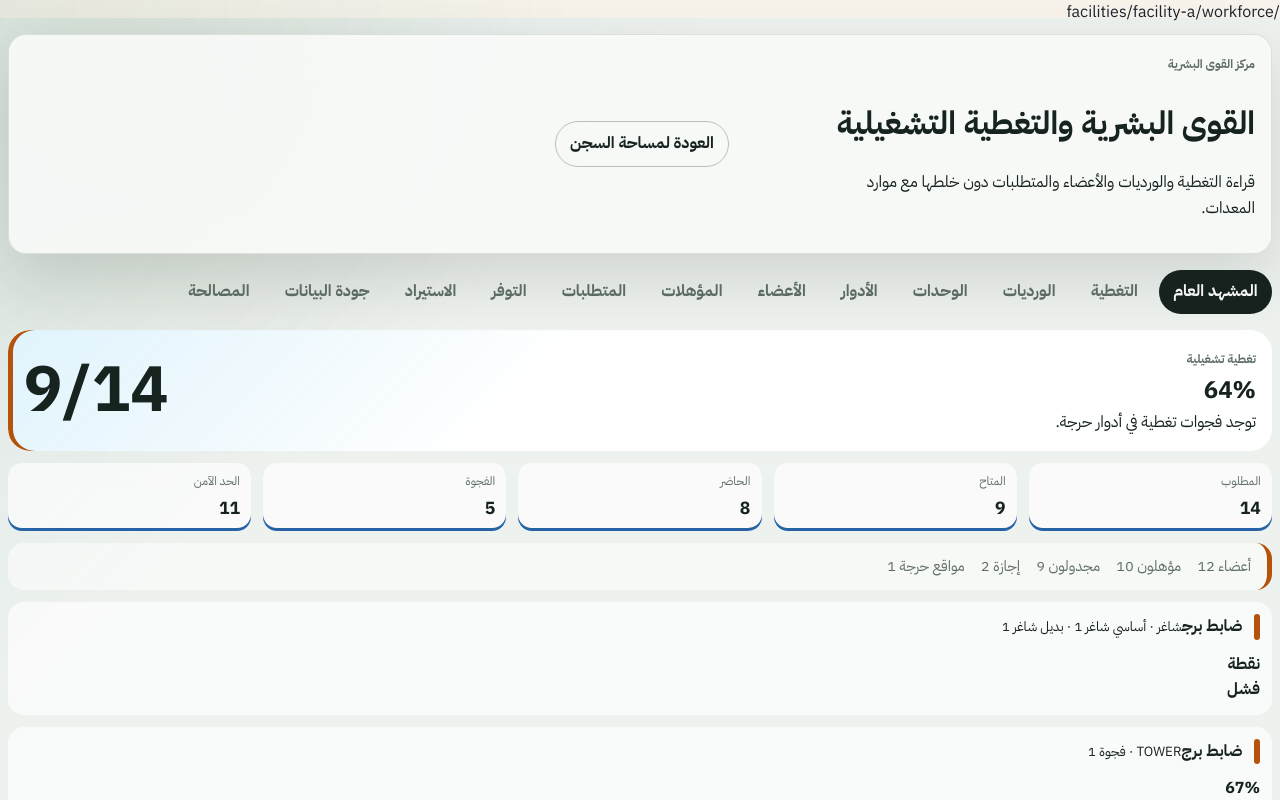
Test: FacilityWorkforcePage › hides import and export controls without permissions
Expected: the heading "القوى البشرية والتغطية التشغيلية" is shown, [820,98,1255,149]
Click the button "الاستيراد": point(430, 292) [390,270,471,314]
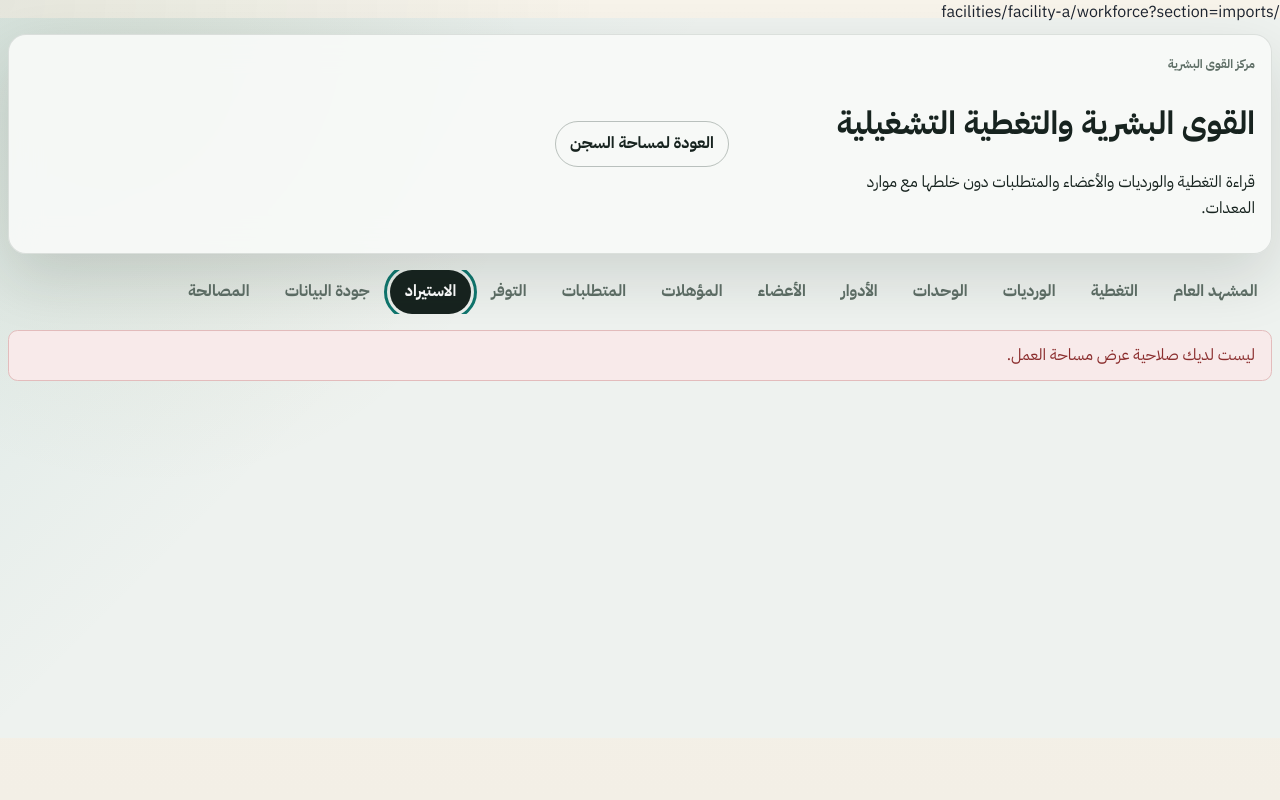
Expected: the message reads "ليست لديك صلاحية عرض مساحة العمل.", [1007,343,1255,367]
